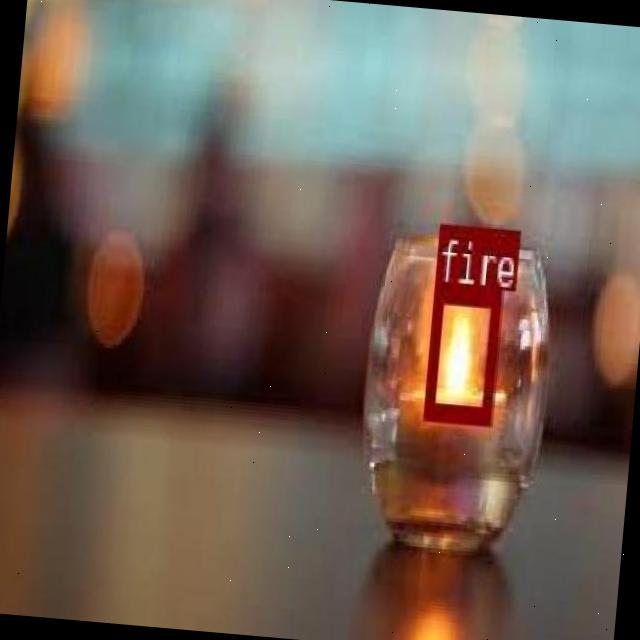fire: (424, 282, 501, 421)
